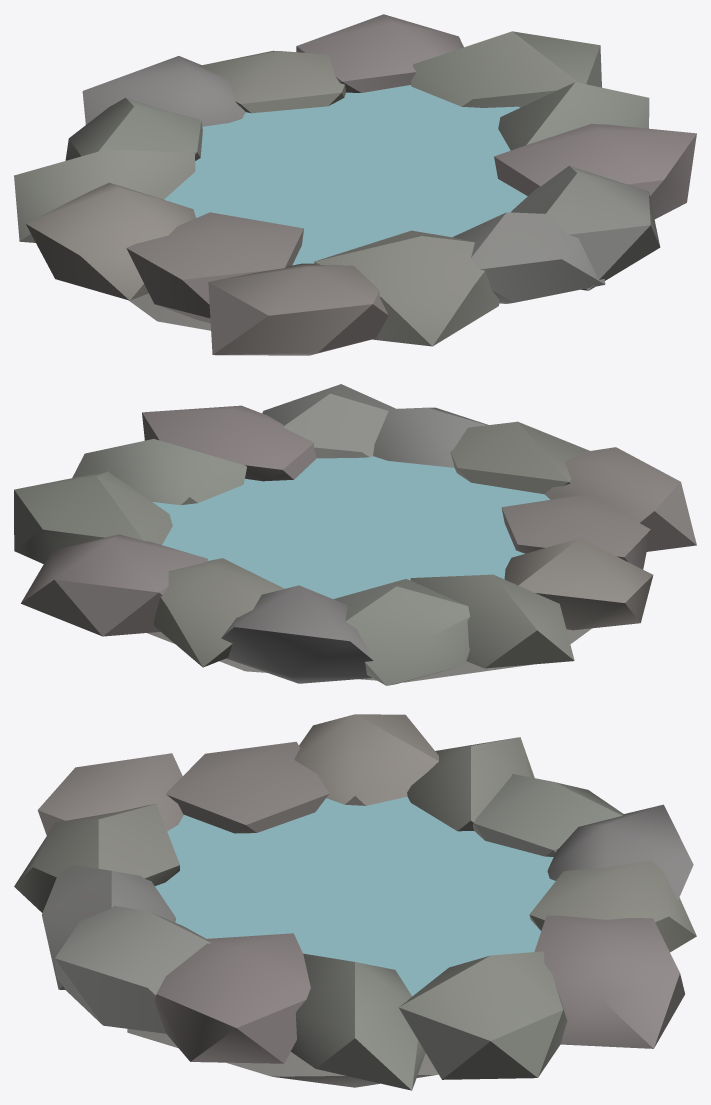
File: tide_pool.gltf
3 renders of one model, top to bottom at view 1: azimuth 30°, elevation 25°; view 2: azimuth 150°, elevation 25°; view 3: azimuth 270°, elevation 25°, orthographic. The views are drawn at different scales.
Visible parts, largest first — view 1: Body; view 2: Body; view 3: Body.
Part boxes in pixels (x1,y1,x2,y2): Body: (14,14,696,355); Body: (14,384,696,685); Body: (14,714,696,1090).
Bounding box in the file's own units: 6.09 × 1.33 × 5.38.
